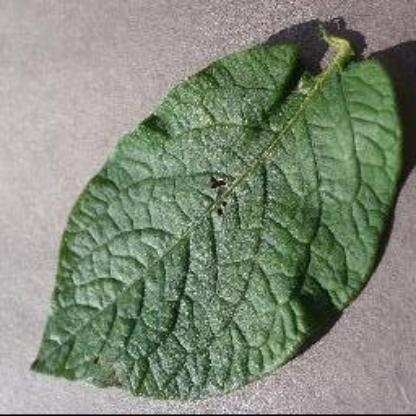Healthy-plant: (30, 20, 406, 402)
